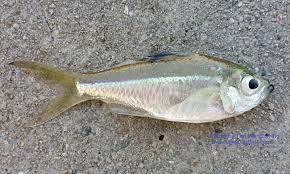Glass Perchlet: (12, 45, 271, 133)
